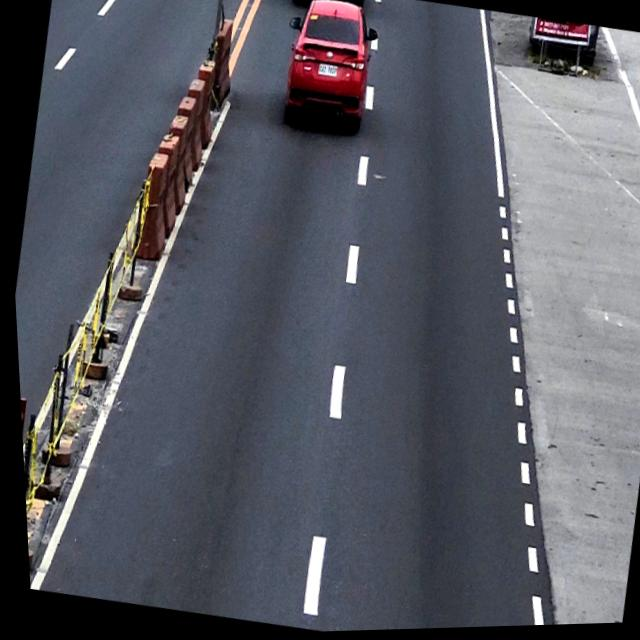Car: (271, 0, 387, 141)
License-Plate: (315, 64, 337, 80)
